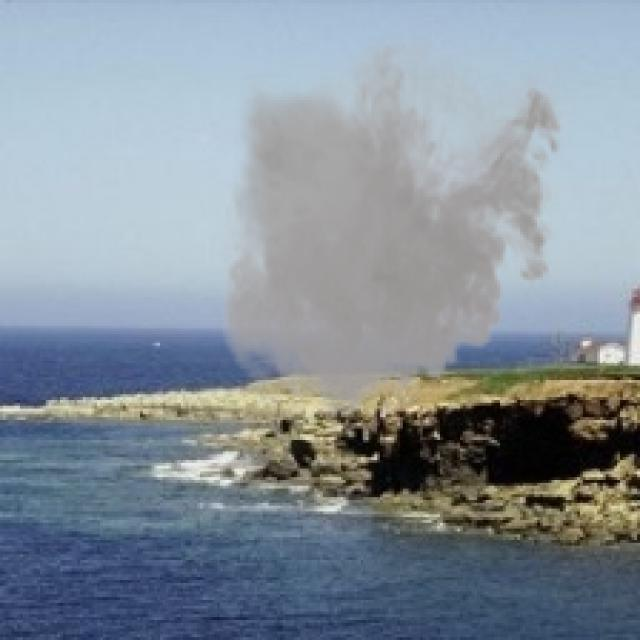Smoke: (208, 19, 574, 434)
